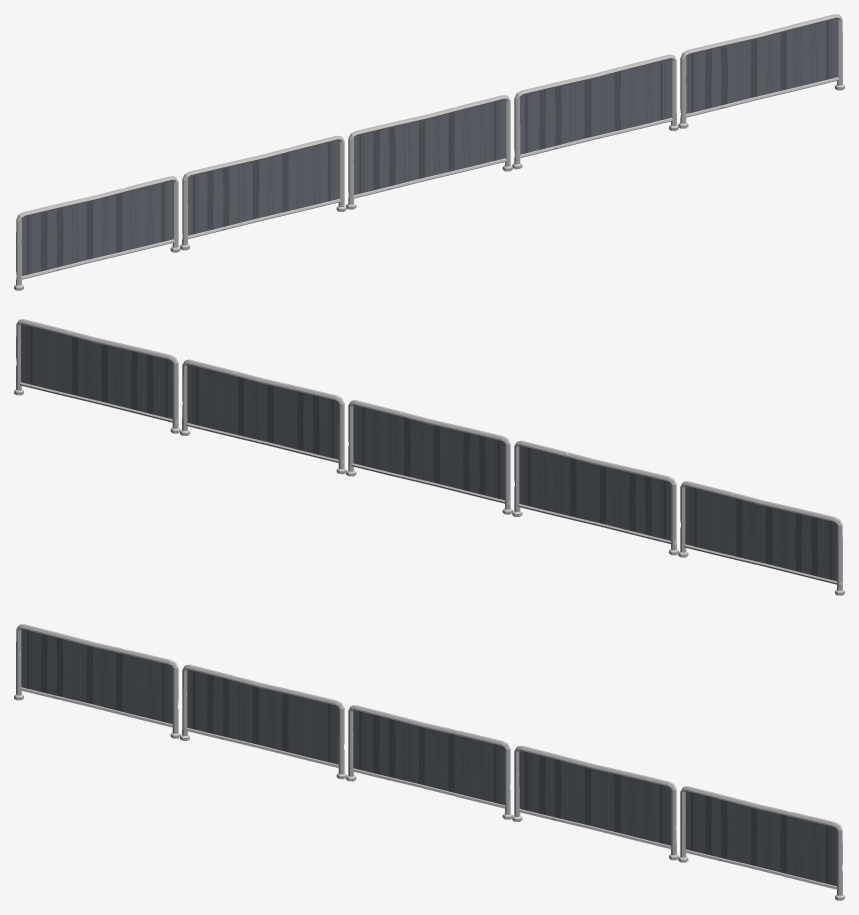
The model's file is SM_Prop_Barrier_04_Alt.fbx.
3 renders of one model, top to bottom at view 1: azimuth 30°, elevation 25°; view 2: azimuth 150°, elevation 25°; view 3: azimuth 330°, elevation 25°, orthographic.
Parts seen in each view (by area): view 1: SM_Prop_Barrier_04_Alt; view 2: SM_Prop_Barrier_04_Alt; view 3: SM_Prop_Barrier_04_Alt.
Boxes of the visible parts, <box> form: SM_Prop_Barrier_04_Alt: <box>14,14,844,290</box>; SM_Prop_Barrier_04_Alt: <box>14,319,844,595</box>; SM_Prop_Barrier_04_Alt: <box>14,624,844,900</box>.
Size of the model in its own units: 1250 by 108 by 12.93.
